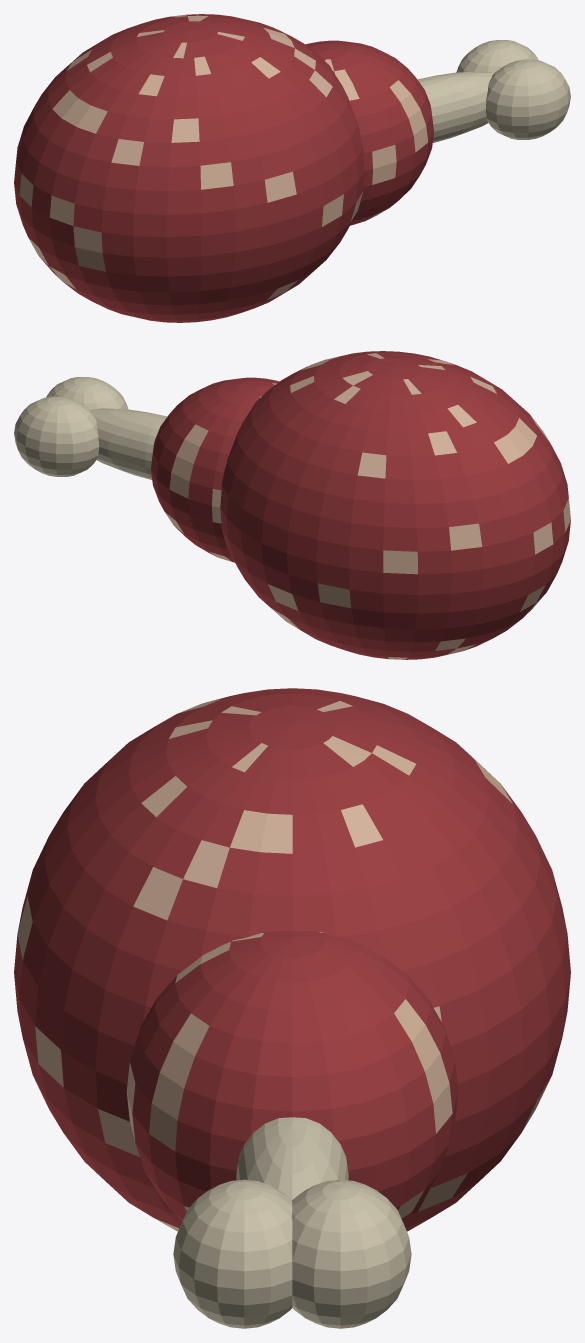
File: SM_Meat_Raw_A.fbx
The picture shows the model from 3 angles, top to bottom: view 1: azimuth 30°, elevation 25°; view 2: azimuth 150°, elevation 25°; view 3: azimuth 270°, elevation 25°; orthographic projection. The views are drawn at different scales.
Visible parts, largest first — view 1: SM_Meat_Raw_A; view 2: SM_Meat_Raw_A; view 3: SM_Meat_Raw_A.
Part boxes in pixels (x1=…): SM_Meat_Raw_A: x1=14, y1=14, x2=570, y2=322; SM_Meat_Raw_A: x1=14, y1=351, x2=570, y2=659; SM_Meat_Raw_A: x1=14, y1=688, x2=570, y2=1328.
Size of the model in its own units: 34.6 by 67.1 by 34.
